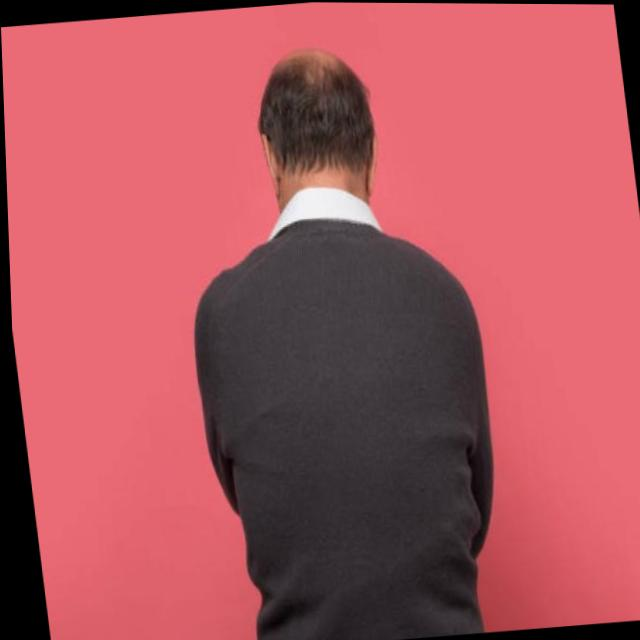no helmet: (224, 14, 385, 272)
